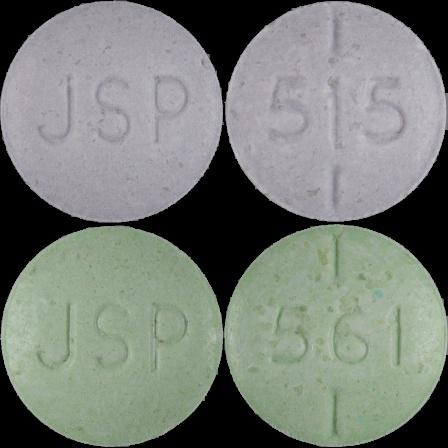21695-750: (0, 0, 224, 224)
